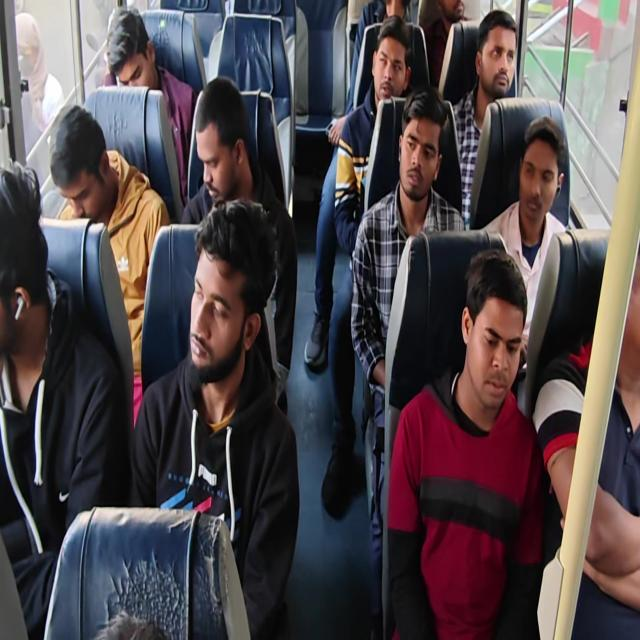person: (0, 157, 55, 377), (447, 262, 527, 408), (184, 210, 250, 386), (593, 224, 640, 406), (47, 106, 116, 222), (189, 90, 245, 202), (390, 98, 446, 209), (103, 5, 165, 100), (516, 130, 566, 228), (476, 22, 514, 100), (374, 33, 409, 111), (432, 0, 469, 29), (375, 0, 409, 13)
